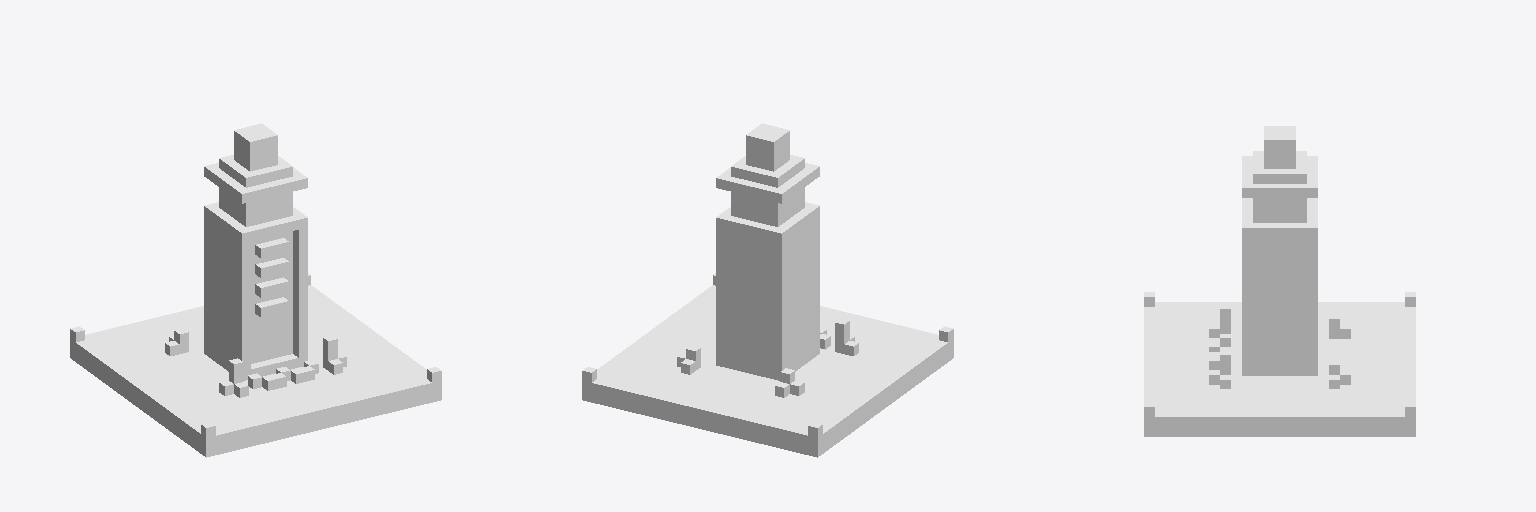
Rendered from memorial.obj.
3 renders of one model, left to right at view 1: azimuth 30°, elevation 25°; view 2: azimuth 150°, elevation 25°; view 3: azimuth 270°, elevation 25°, orthographic.
Visible parts, largest first — view 1: memorial; view 2: memorial; view 3: memorial.
Boxes of the visible parts, box(x1,y1,x2,y2) form: memorial: box(70, 123, 441, 457); memorial: box(582, 123, 953, 457); memorial: box(1144, 126, 1415, 436).
Size of the model in its own units: 25 by 25 by 25.